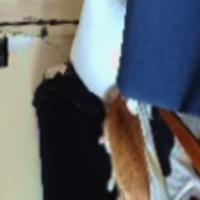asleep: (97, 94, 150, 200)
